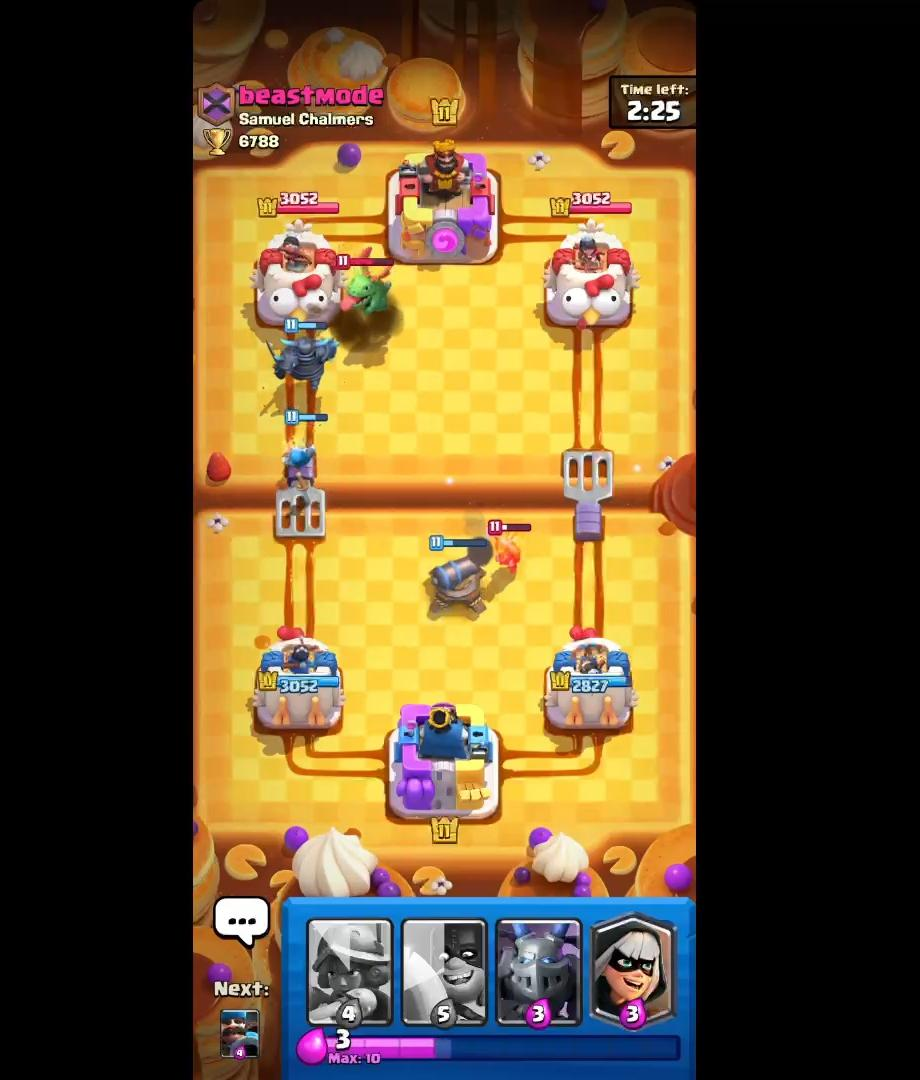Baby Dragon: (331, 253, 401, 323)
Valkyrie: (486, 509, 530, 589)
